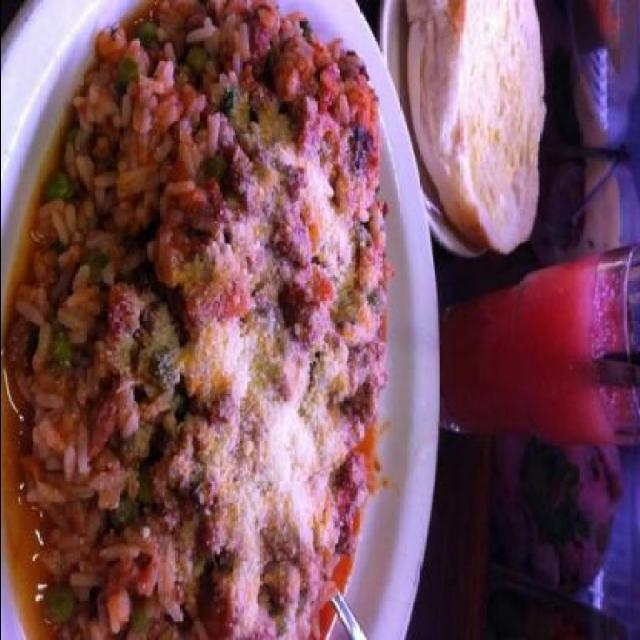Risotto: (31, 59, 387, 638)
